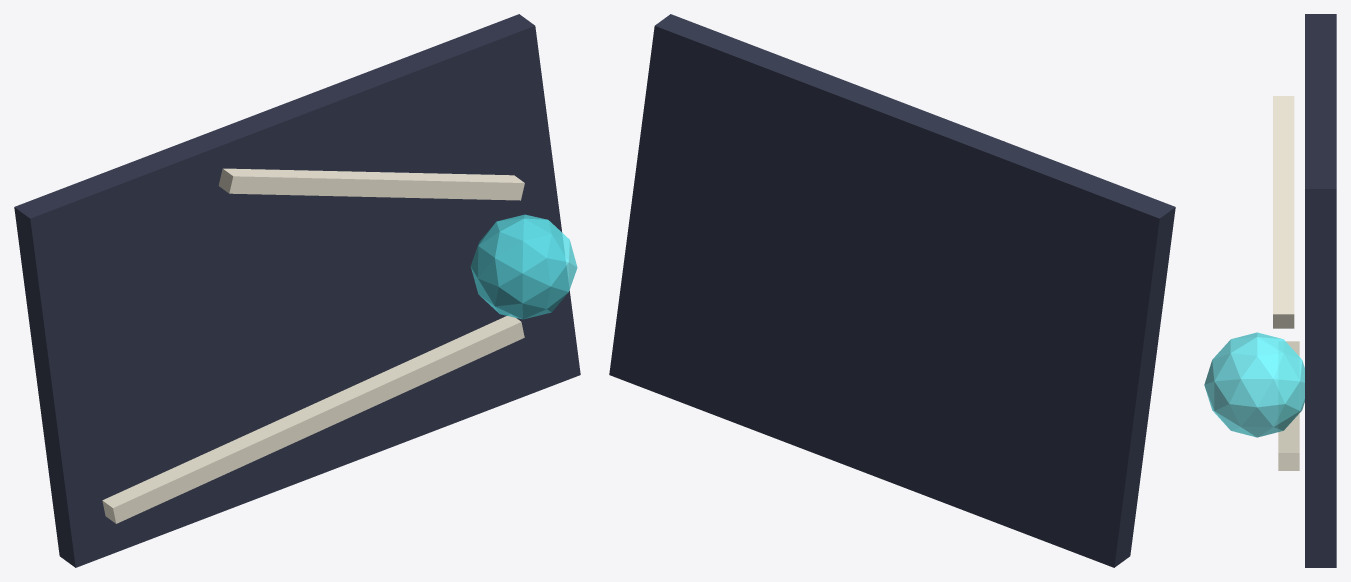
The model's file is 02_world_prop_polish.glb.
3 views of the same model, side by side, from view 1: azimuth 30°, elevation 25°; view 2: azimuth 150°, elevation 25°; view 3: azimuth 270°, elevation 25° (orthographic).
Parts seen in each view (by area): view 1: object_overlay_plate, edge_wear_a, glow_socket, edge_wear_b; view 2: object_overlay_plate; view 3: object_overlay_plate, glow_socket, edge_wear_b, edge_wear_a.
Boxes of the visible parts, <box> form: object_overlay_plate: <box>14,14,580,567</box>; edge_wear_a: <box>102,315,524,523</box>; glow_socket: <box>470,214,577,319</box>; edge_wear_b: <box>218,168,524,200</box>; object_overlay_plate: <box>609,14,1175,567</box>; object_overlay_plate: <box>1305,14,1336,567</box>; glow_socket: <box>1204,332,1304,437</box>; edge_wear_b: <box>1273,96,1294,328</box>; edge_wear_a: <box>1278,341,1299,470</box>.
Bounding box in the file's own units: 1.19 × 0.8874 × 0.25.
